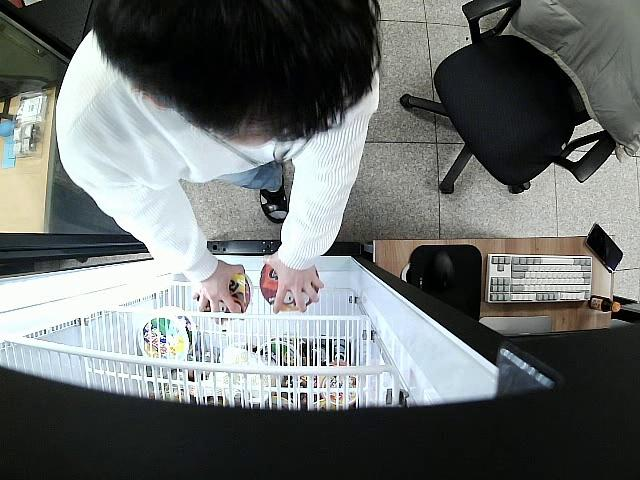00_hand: (264, 250, 324, 315), (189, 261, 246, 316)
05_nuguri_L: (258, 262, 319, 309), (199, 275, 254, 317)
